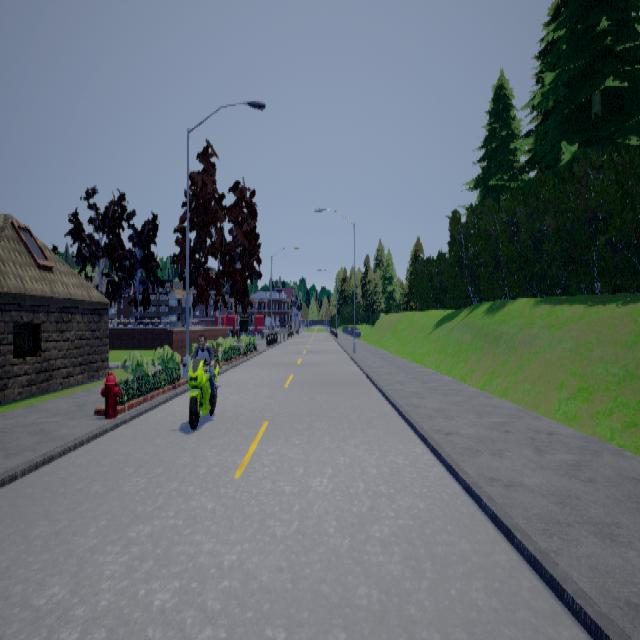motobike: (185, 335, 219, 430)
